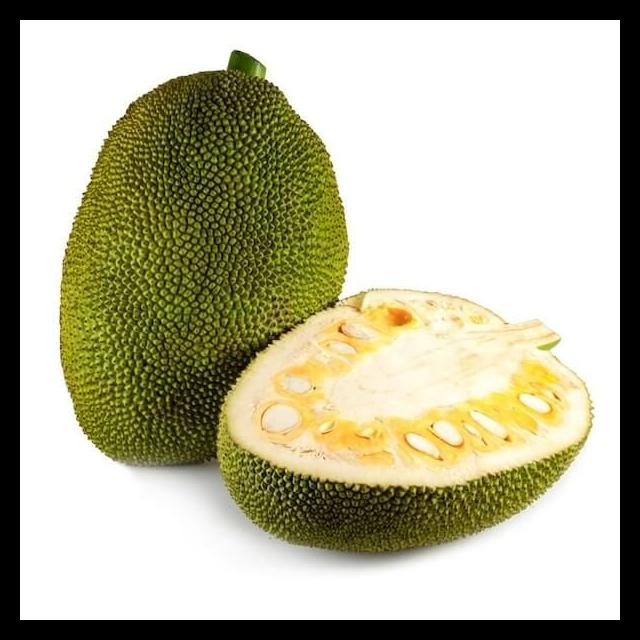mit: (60, 66, 349, 464), (218, 288, 591, 556)
